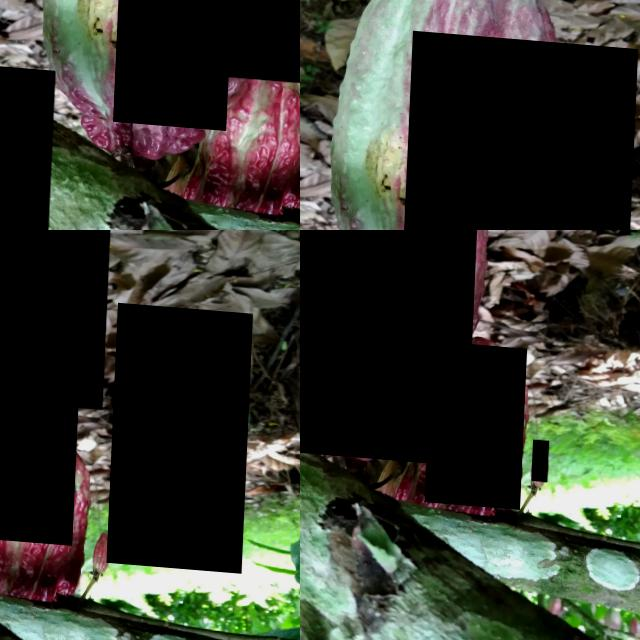Monilia: (405, 27, 639, 230), (300, 230, 484, 459)
Sana: (111, 295, 255, 564), (0, 230, 89, 538), (12, 230, 113, 402), (429, 336, 530, 503), (116, 0, 238, 125), (0, 60, 58, 230), (535, 432, 553, 474)
